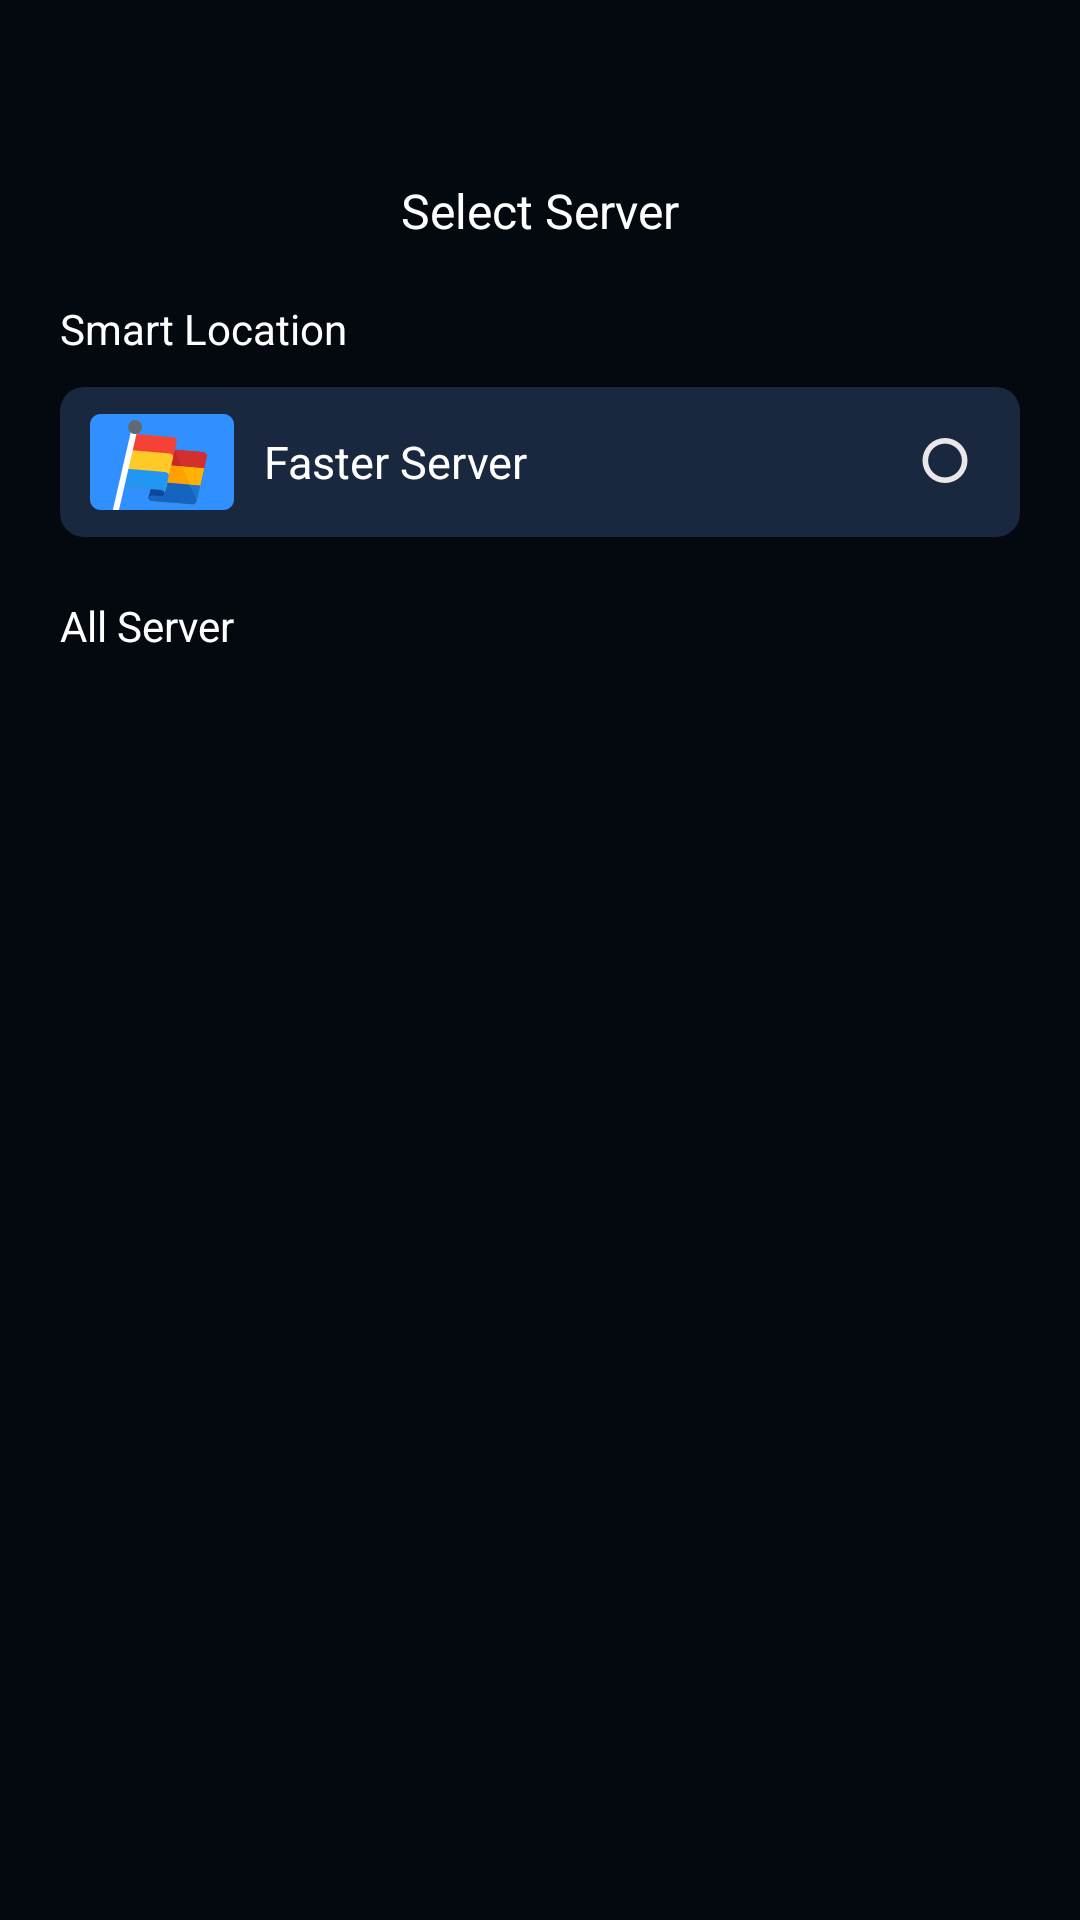

Where to tap for icons on this 1080 x 1920 app screen, as (x,y):
no choose: (945,460)
